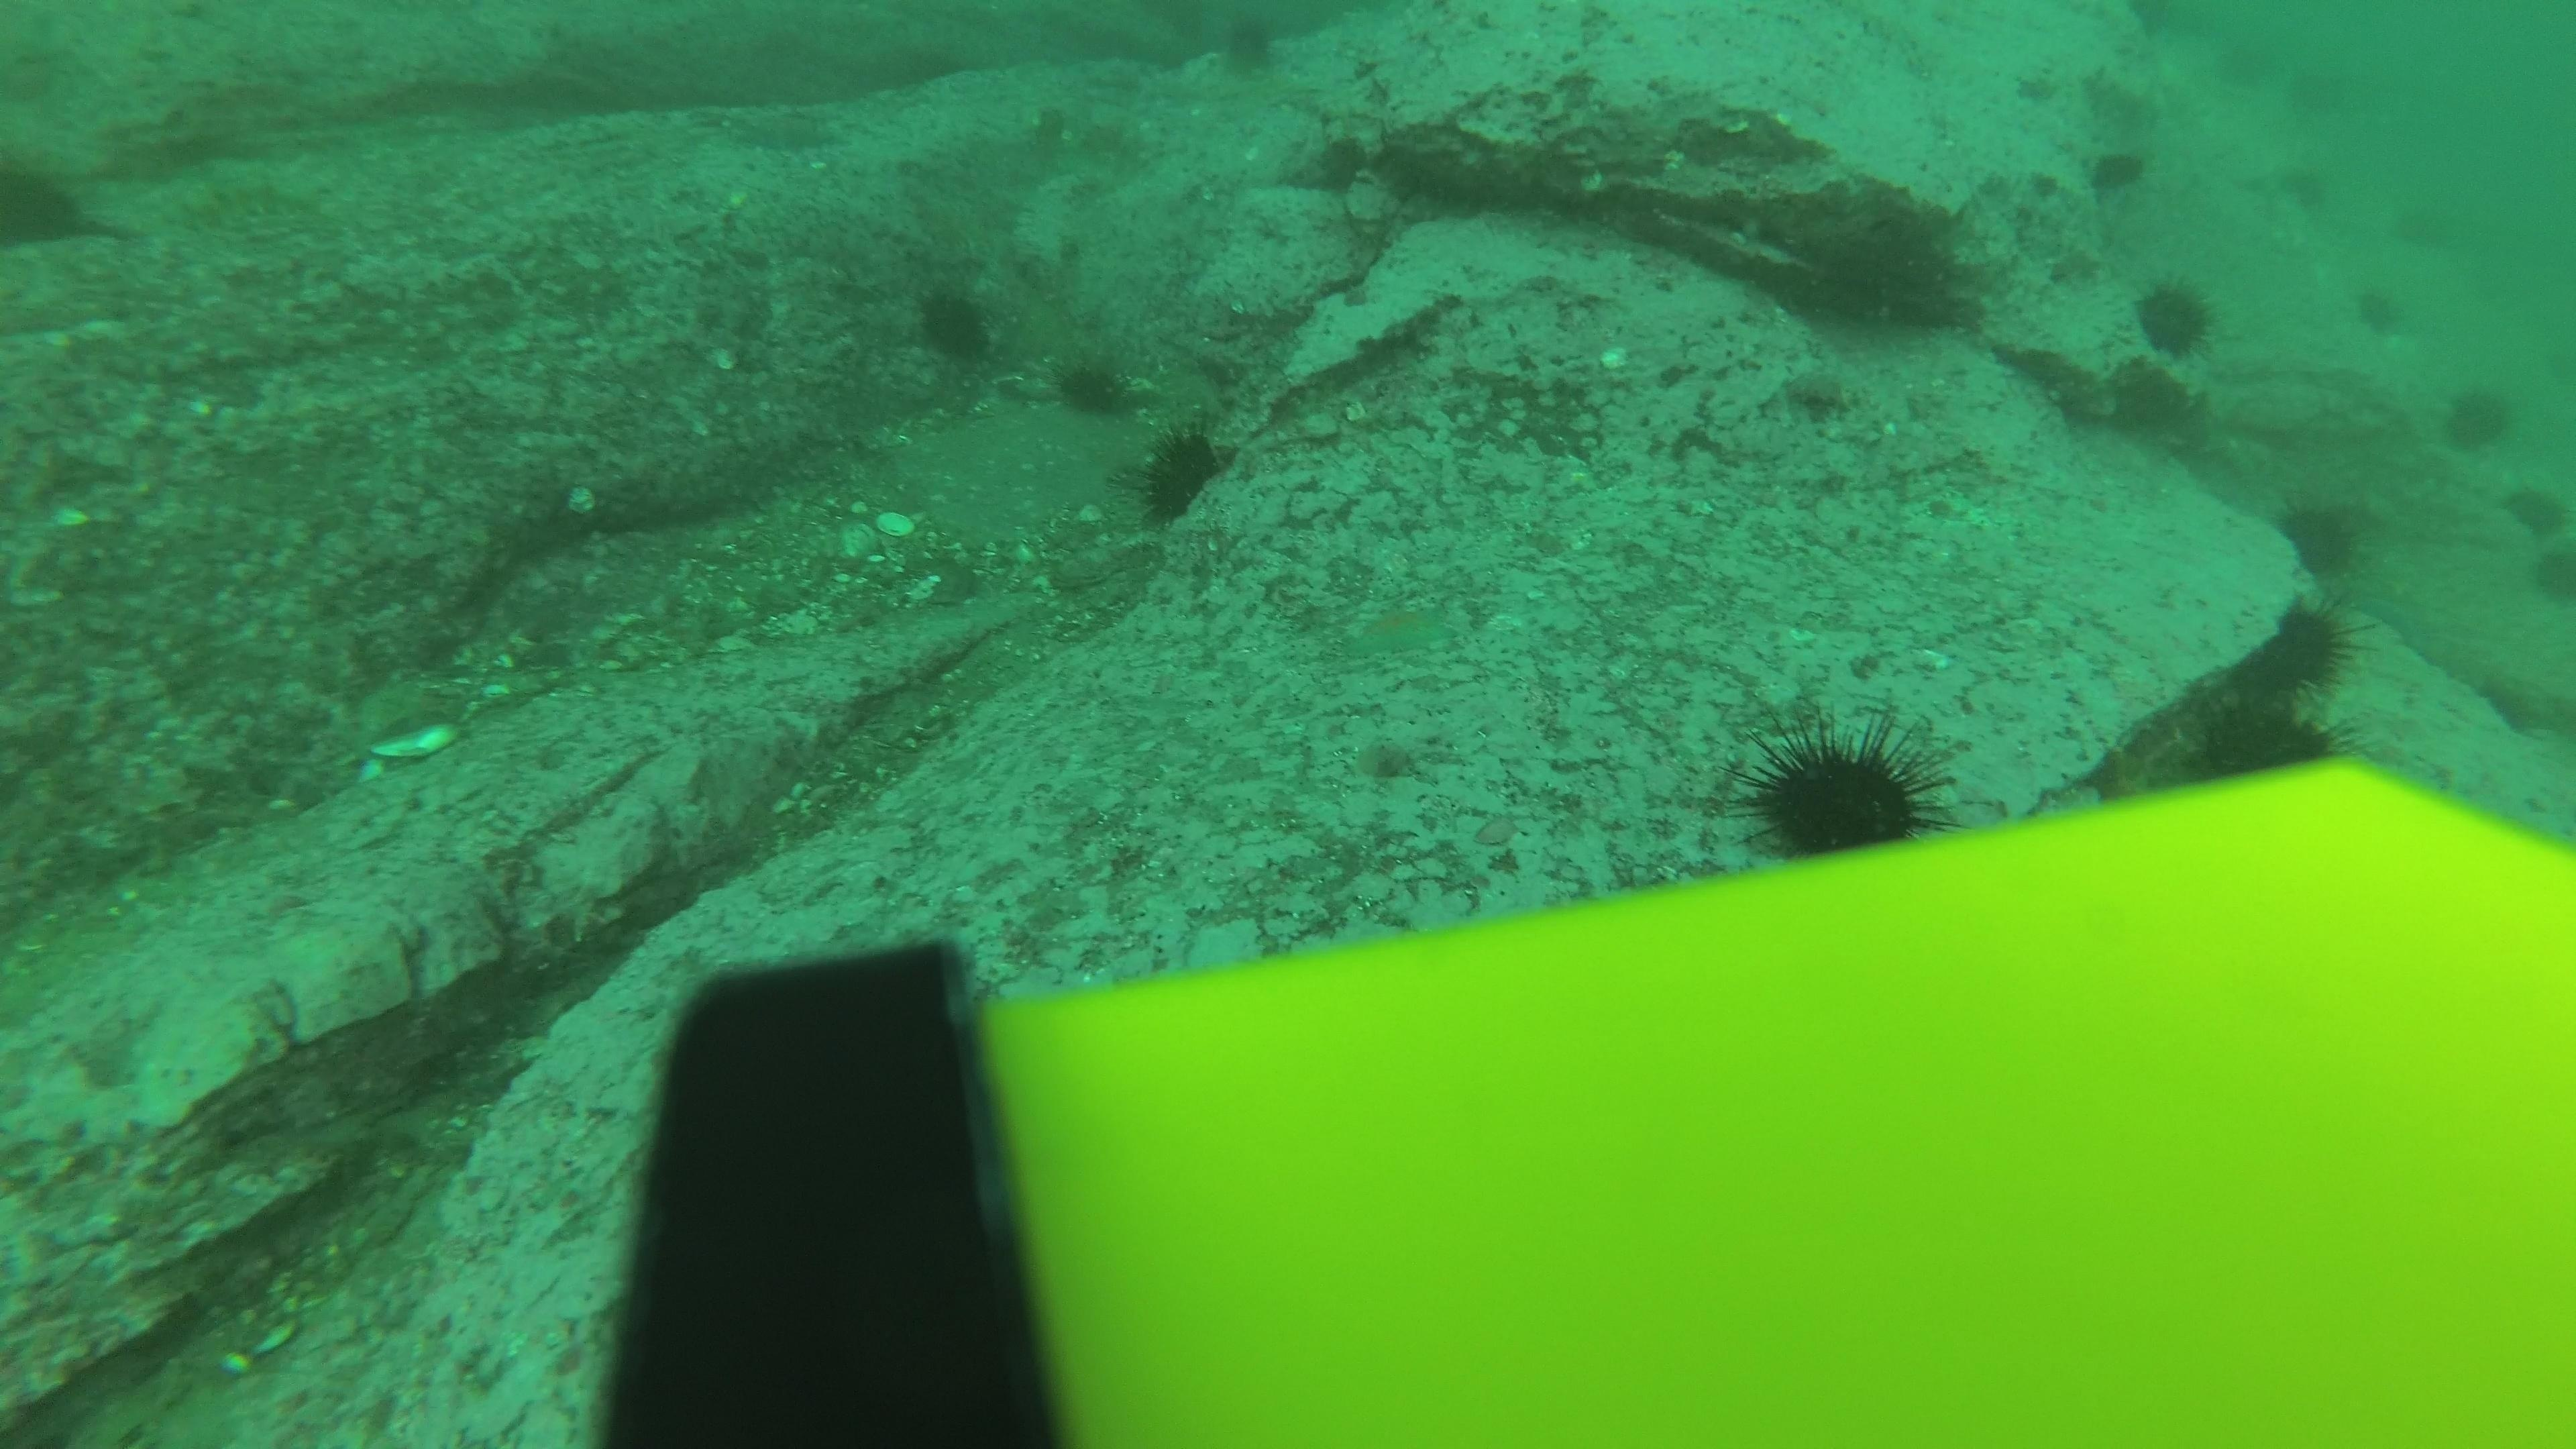echinus: (1737, 713, 1948, 855), (2180, 690, 2337, 786), (2224, 596, 2357, 709), (1131, 421, 1237, 525), (2098, 354, 2206, 448), (0, 149, 94, 255), (2272, 490, 2369, 582), (2128, 272, 2220, 361), (909, 278, 1000, 366), (2438, 377, 2518, 455), (2480, 469, 2560, 545), (1053, 350, 1134, 421), (1214, 14, 1284, 80), (2082, 140, 2153, 200), (2397, 198, 2465, 260), (2346, 287, 2411, 349), (2250, 152, 2316, 214), (2286, 60, 2353, 120), (2523, 527, 2576, 603), (2204, 44, 2270, 104)
starfish: (1338, 594, 1458, 667)
